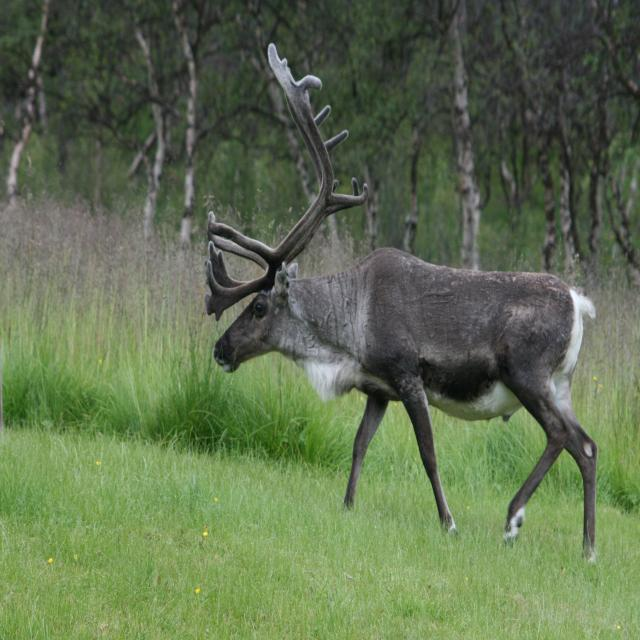Reindeer: (209, 44, 596, 554)
